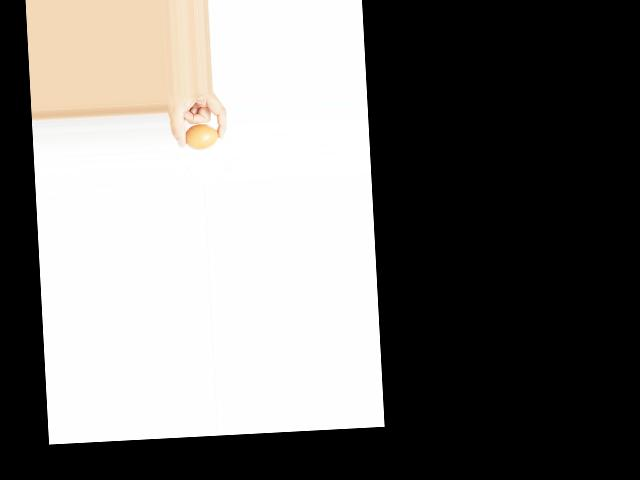egg: (184, 123, 219, 151)
